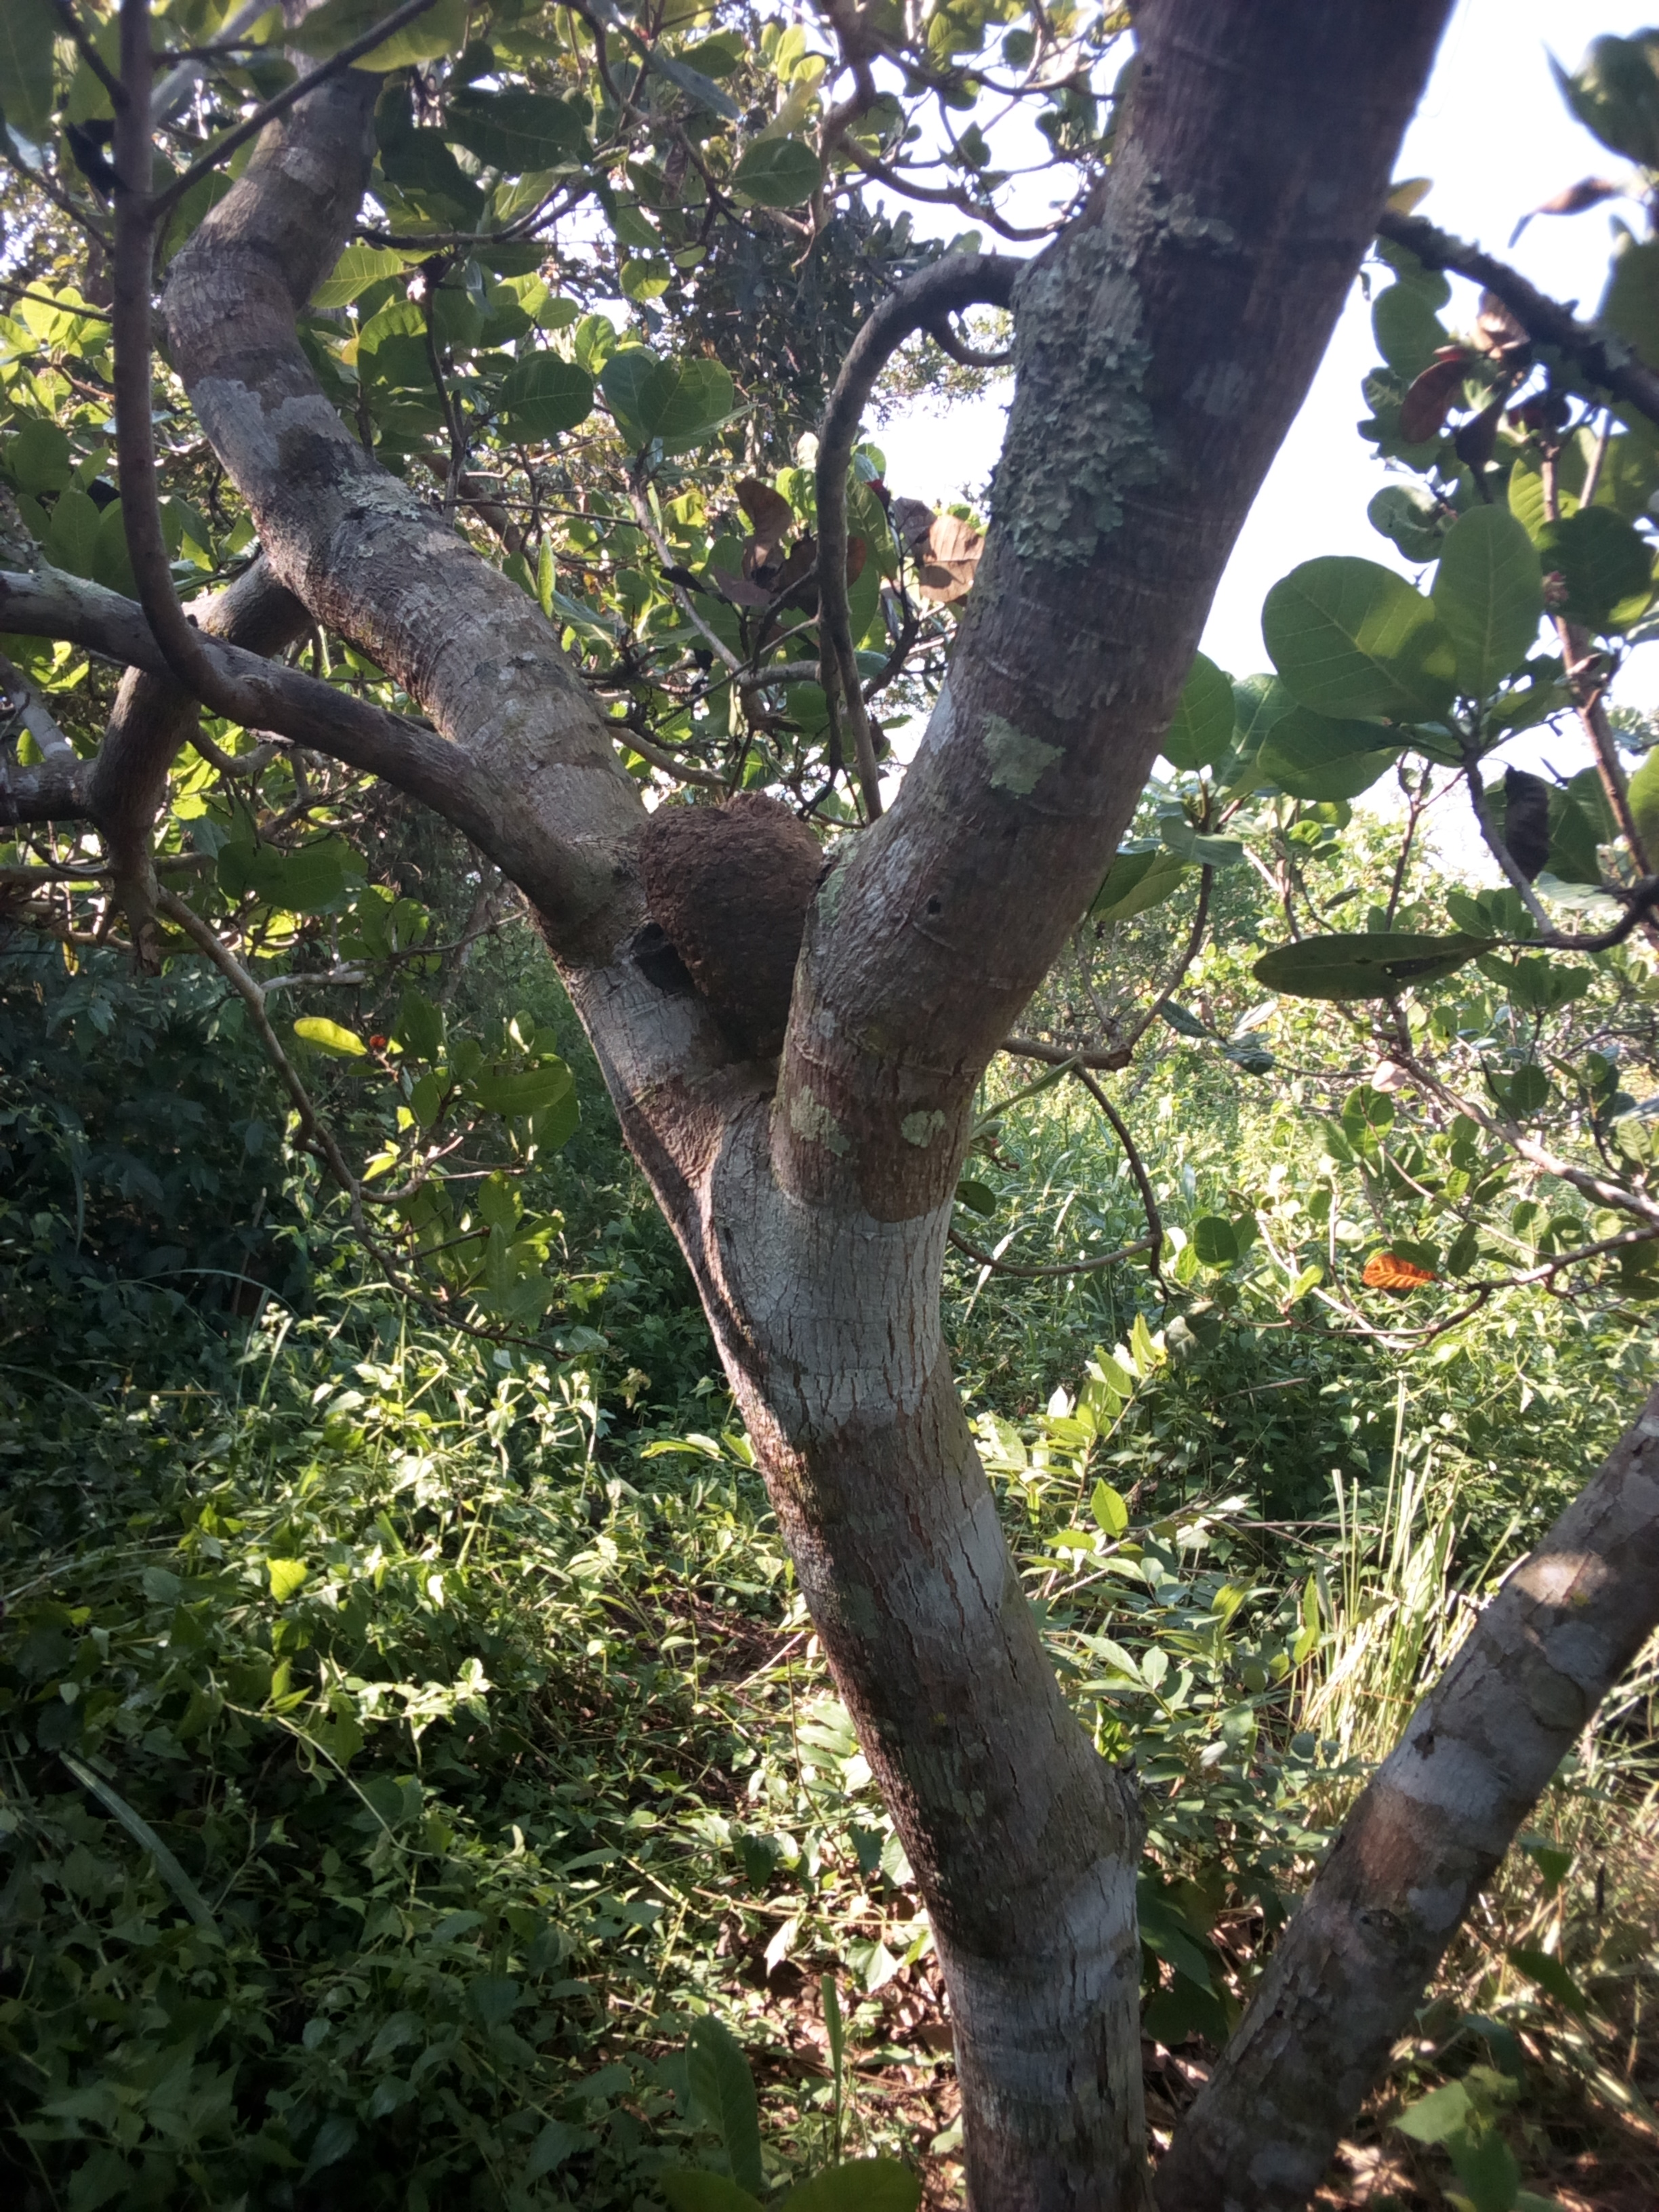Termites: (819, 1479, 958, 1855), (629, 773, 796, 1017)
